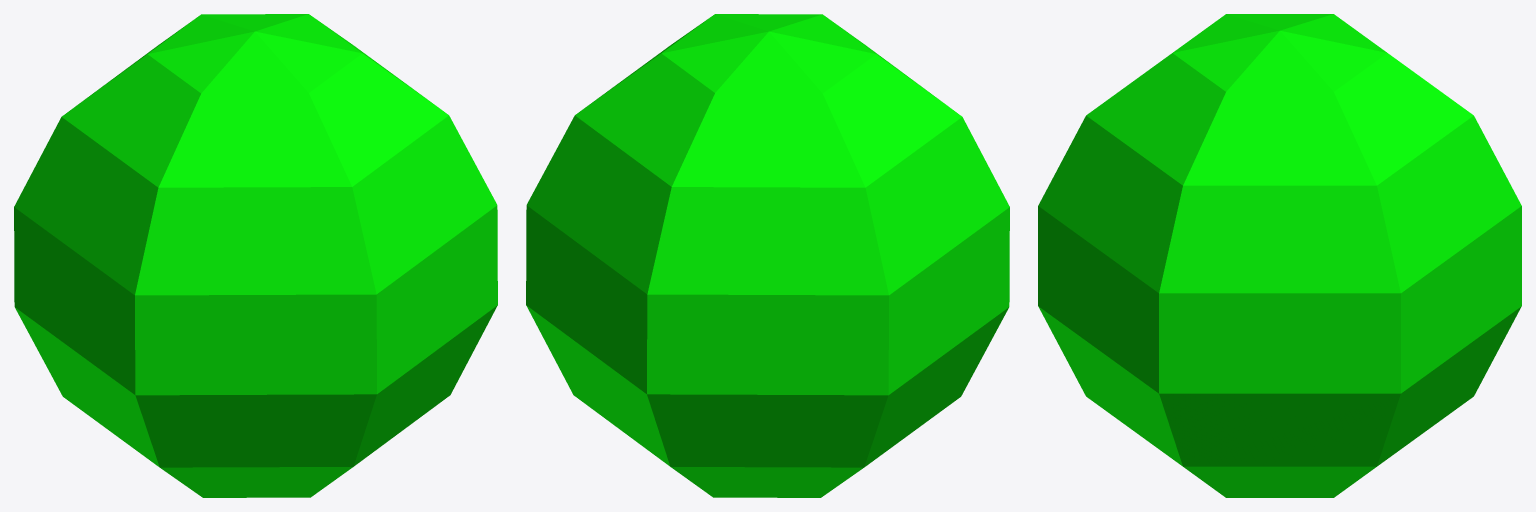
File: engineer_v4.dae
The picture shows the model from 3 angles, left to right: view 1: azimuth 30°, elevation 25°; view 2: azimuth 150°, elevation 25°; view 3: azimuth 270°, elevation 25°; orthographic projection.
Parts seen in each view (by area): view 1: tcp_link; view 2: tcp_link; view 3: tcp_link.
Part boxes in pixels (x1,y1,x2,y2): tcp_link: (14,14,497,497); tcp_link: (526,14,1009,497); tcp_link: (1038,14,1521,497).
Size of the model in its own units: 0.00845 by 0.00975 by 0.01.
